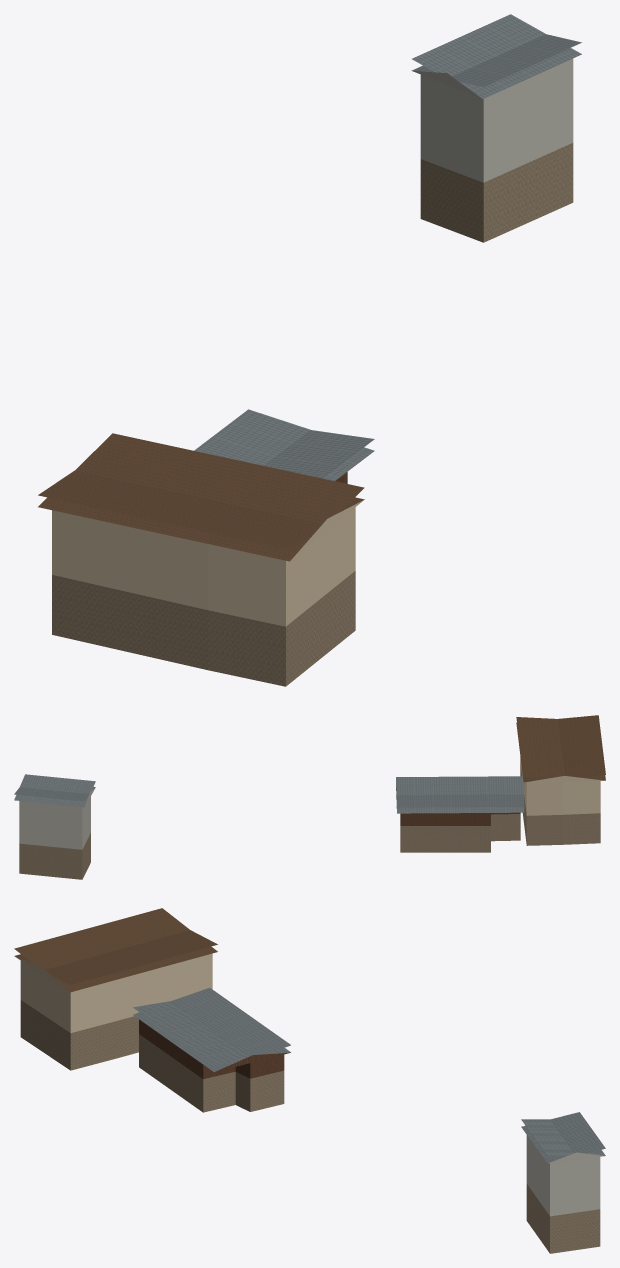
File: bld_c9_17_437.gltf
3 renders of one model, top to bottom at view 1: azimuth 30°, elevation 25°; view 2: azimuth 150°, elevation 25°; view 3: azimuth 270°, elevation 25°, orthographic. The views are drawn at different scales.
Visible parts, largest first — view 1: bld_c9_17_437; view 2: bld_c9_17_437; view 3: bld_c9_17_437.
Part boxes in pixels (x1,y1,x2,y2): bld_c9_17_437: (38,14,581,686); bld_c9_17_437: (14,715,605,879); bld_c9_17_437: (14,908,605,1253).
Size of the model in its own units: 75.88 by 15.25 by 73.06.
Materials: 9 (9 with a texture image).
